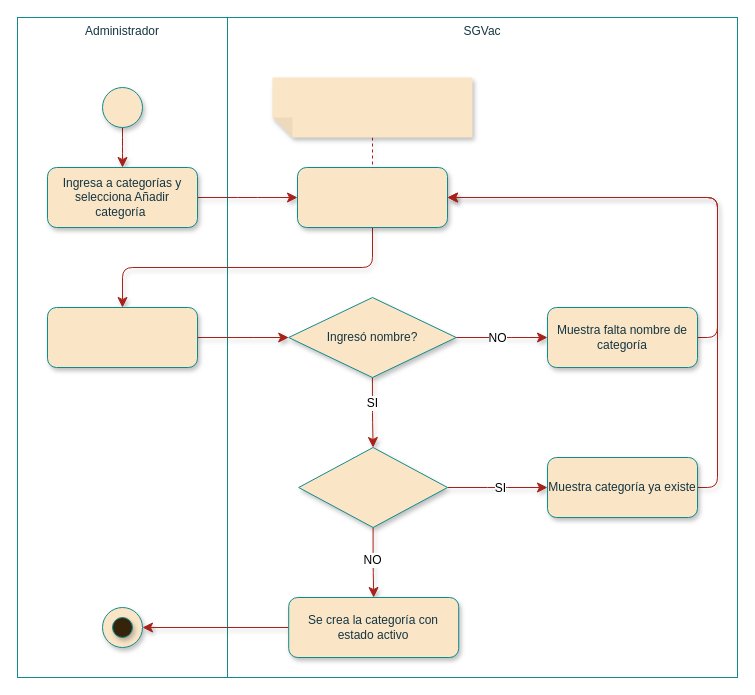
Image size: 755x695. Some labels were removed from this diagram. The centre of each missing label's shape, as x and y in pixels:
Ingresa datos: the point at 123,338
Muestra un formulario: the point at 373,198
Nombre ya existe?: the point at 374,488
Orden y nombre de categoría: the point at 373,108
